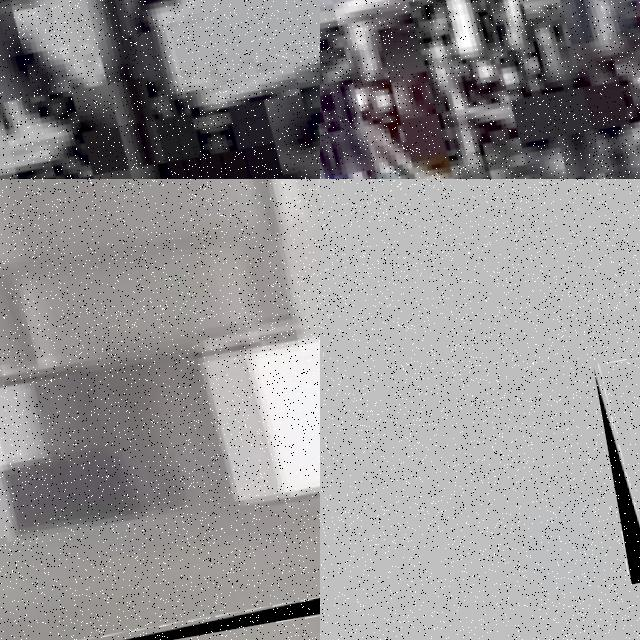drone: (0, 179, 320, 640), (0, 0, 320, 179), (320, 0, 640, 179), (593, 335, 640, 584)
